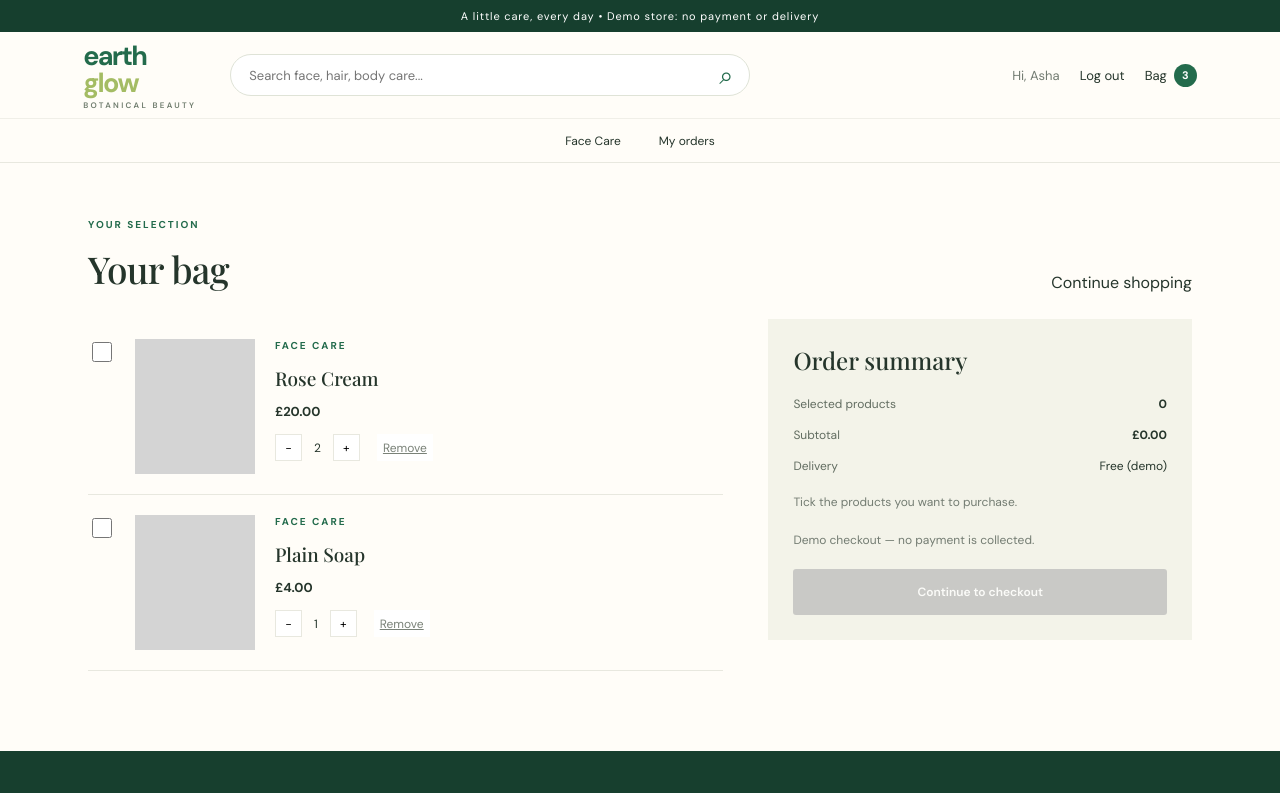
it: bag and checkout › keeps working when removing an item fails
Expected: the checkbox named "Select Rose Cream" is shown, [92,342,112,362]
Click the button "Remove" below "20.00": (405, 448) [377,434,433,461]
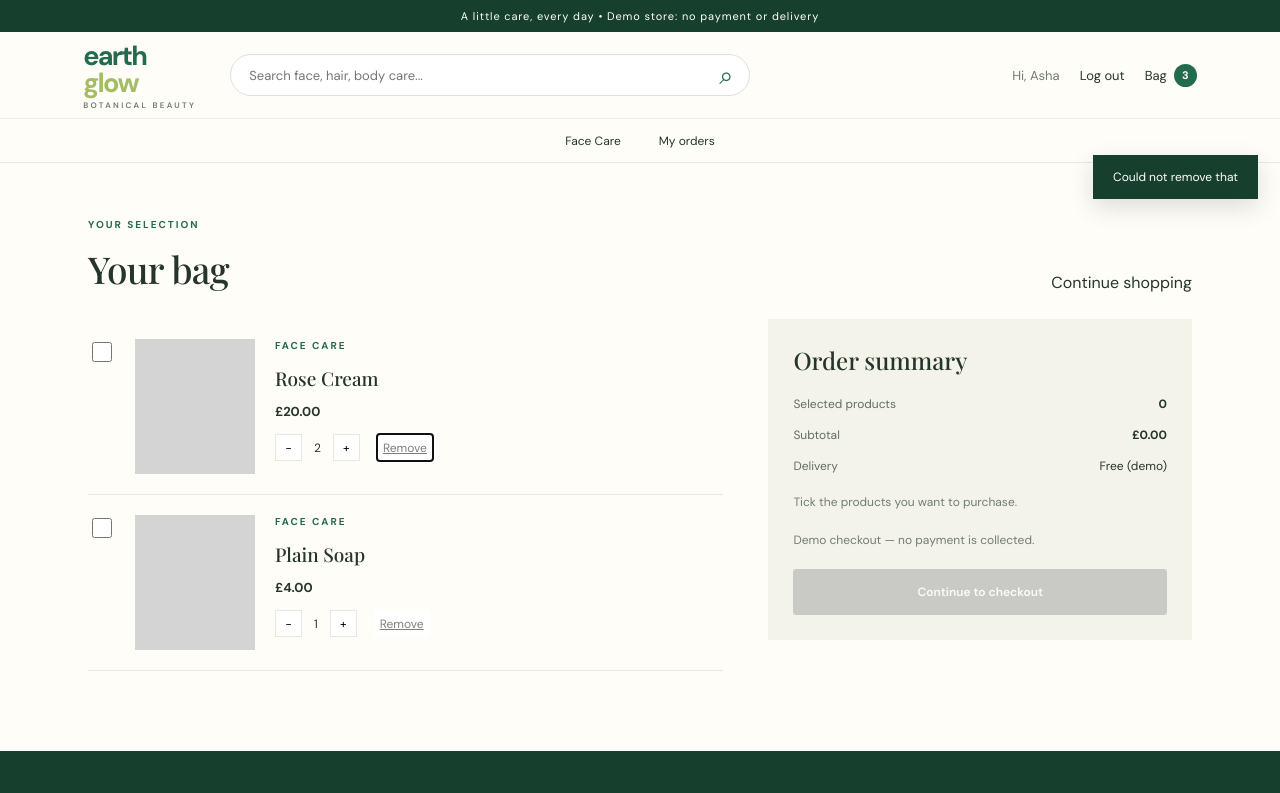
Expected: the checkbox named "Select Rose Cream" is shown, [92,342,112,362]
Now the text "Could not remove that" is shown, box [1093,155,1258,199]
